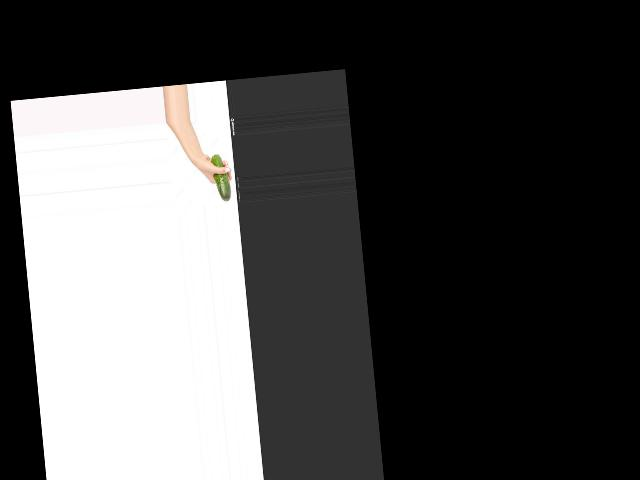cucumber: (211, 154, 232, 203)
